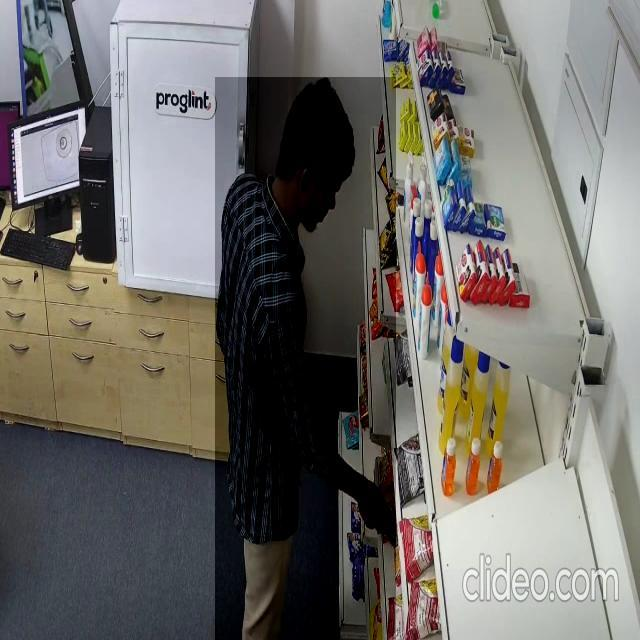normal: (215, 77, 396, 640)
